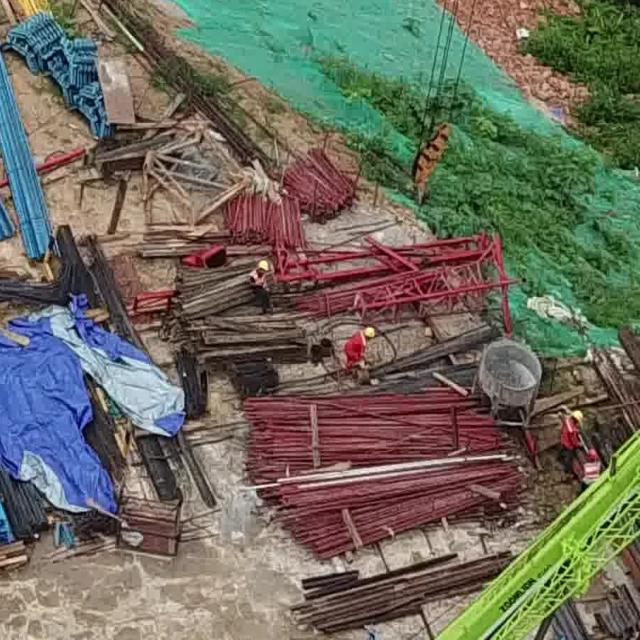crane: (432, 429, 639, 640)
